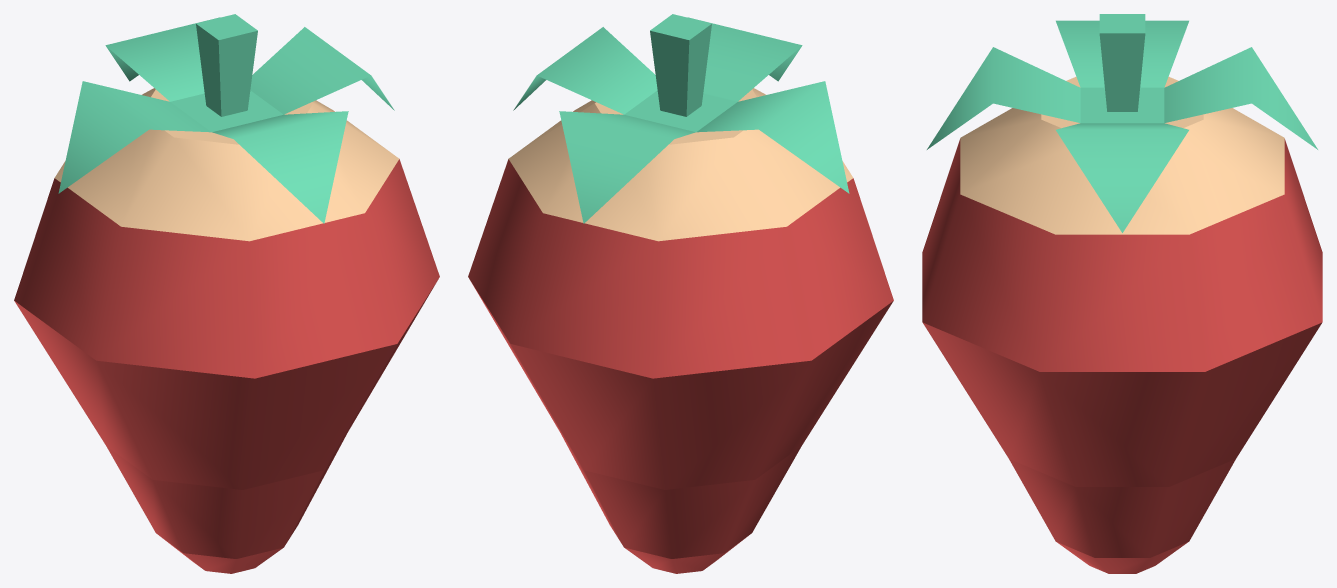
The model's file is strawberry.obj.
The picture shows the model from 3 angles, left to right: view 1: azimuth 30°, elevation 25°; view 2: azimuth 150°, elevation 25°; view 3: azimuth 270°, elevation 25°; orthographic projection.
Parts seen in each view (by area): view 1: strawberry; view 2: strawberry; view 3: strawberry.
Part boxes in pixels (bbox=[...]): strawberry: bbox=[14, 14, 439, 573]; strawberry: bbox=[468, 14, 893, 573]; strawberry: bbox=[922, 14, 1322, 573].
Size of the model in its own units: 0.1197 by 0.177 by 0.1197.
